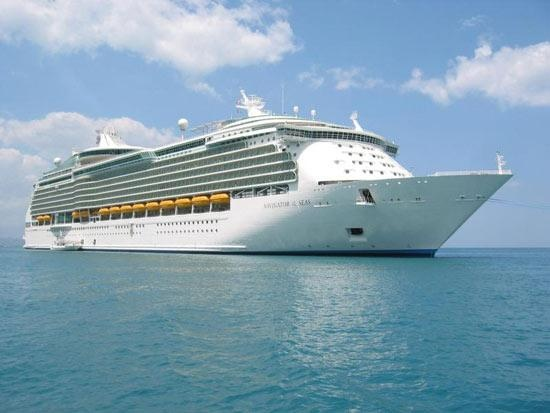youlun: (11, 90, 515, 254)
